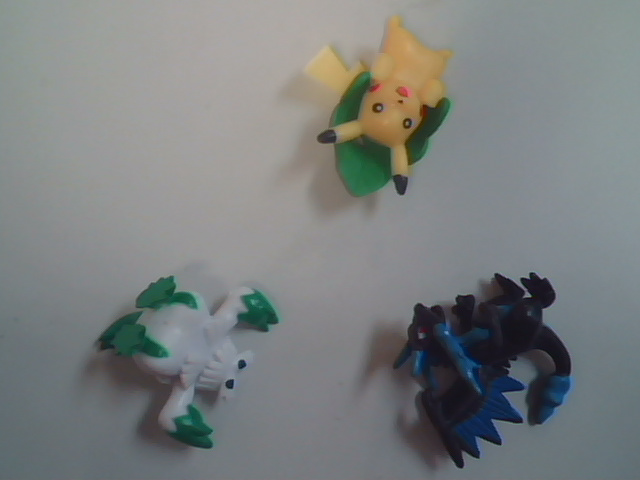abomasnow: (67, 253, 299, 458)
charizard: (371, 279, 596, 478)
pikachu: (282, 12, 506, 223)
